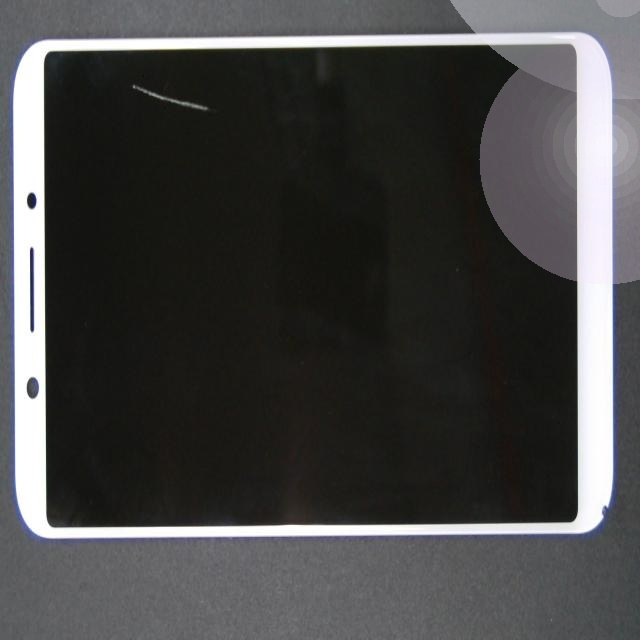scratch: (151, 68, 277, 134)
